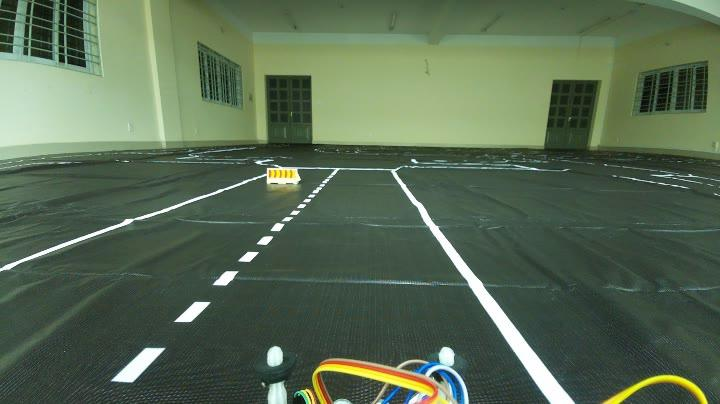roadblock: (260, 163, 306, 189)
